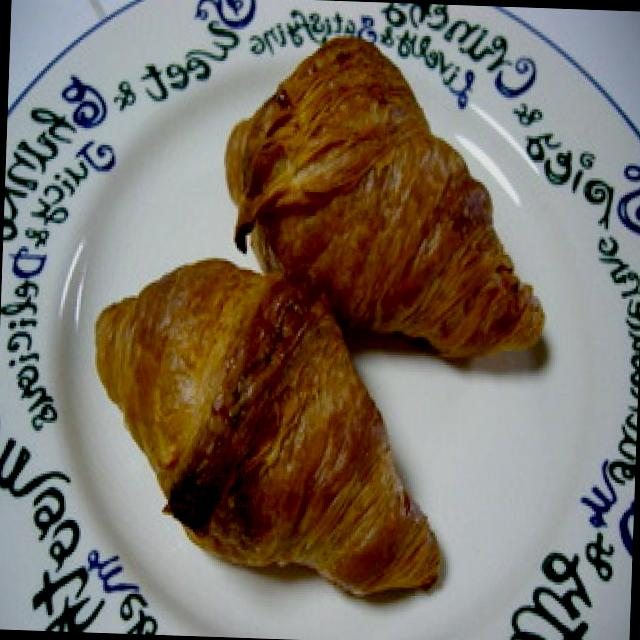Croissant: (88, 245, 456, 587), (228, 29, 544, 339)
